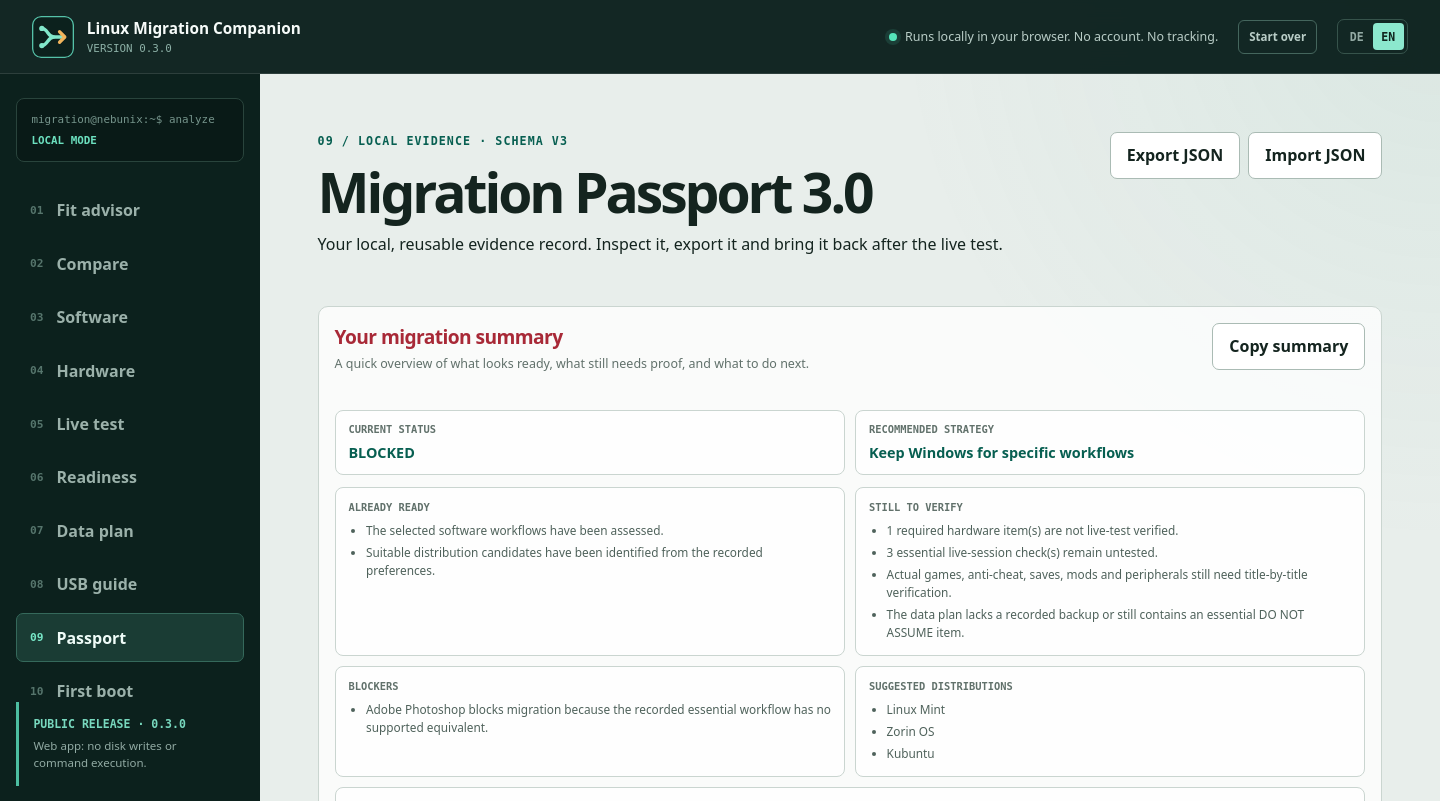
public release application flow › places the localized beginner summary before the detailed Passport
The image size is (1440, 801).
Expected: the text "BLOCKED" is shown, x1=348 y1=443 x2=415 y2=462
Expected: the list item "Photoshop blocks migration" is shown, x1=366 y1=701 x2=831 y2=734
Click the button "DE" at (1357, 36), box x1=1341 y1=23 x2=1373 y2=50
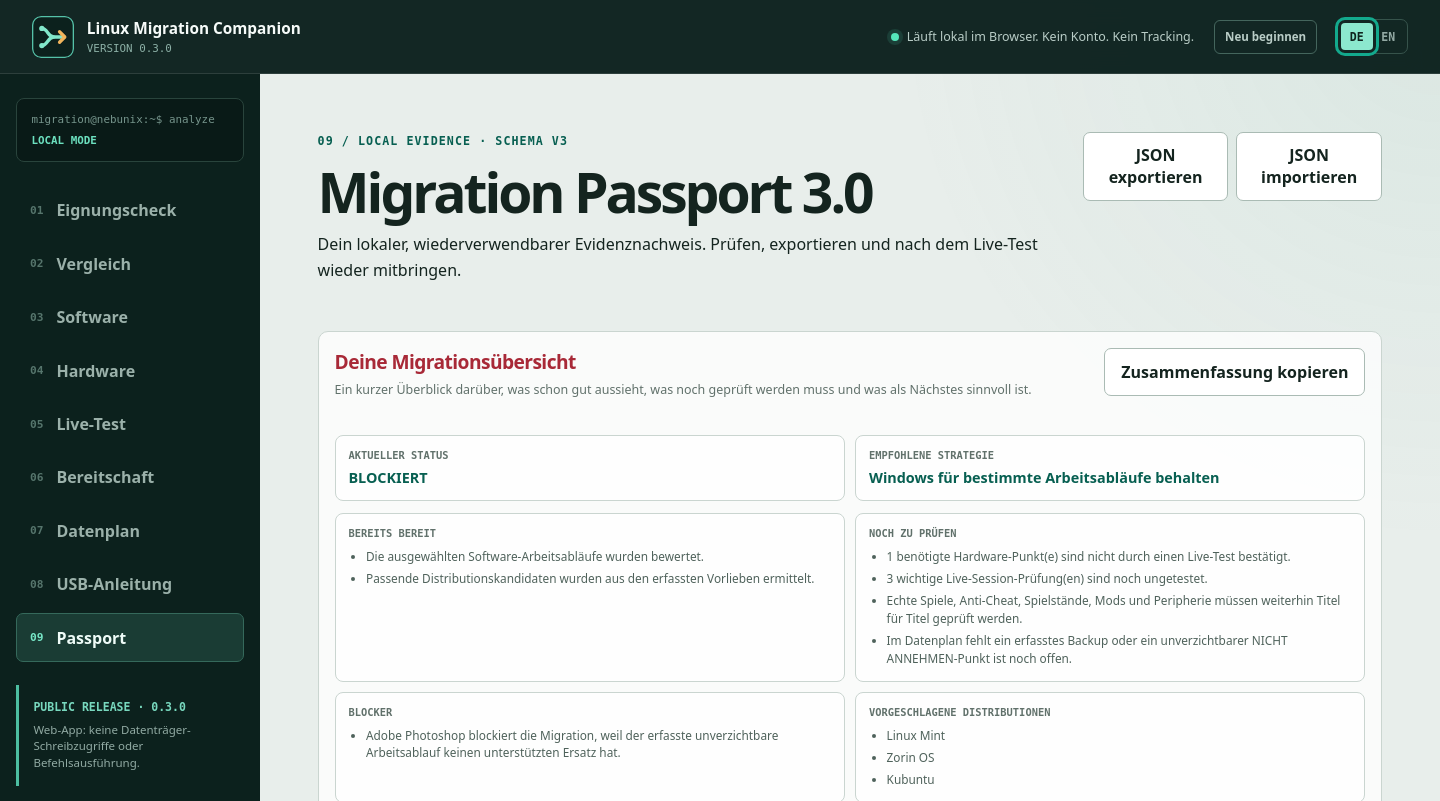
Now the heading "Deine Migrationsübersicht" is shown, box x1=335 y1=348 x2=576 y2=376
Now the button "Zusammenfassung kopieren" is shown, box x1=1104 y1=348 x2=1365 y2=396
